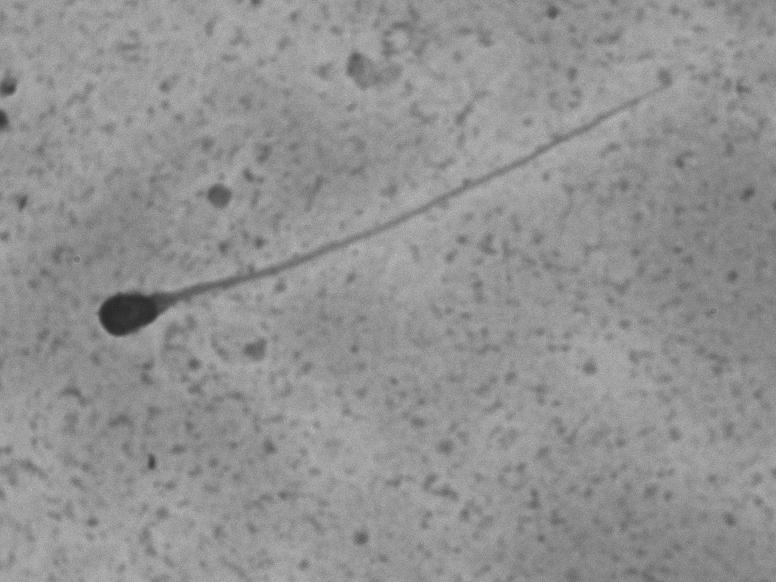Abnormal: (75, 58, 695, 348)
